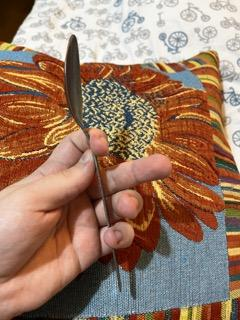spoon: (64, 31, 125, 296)
